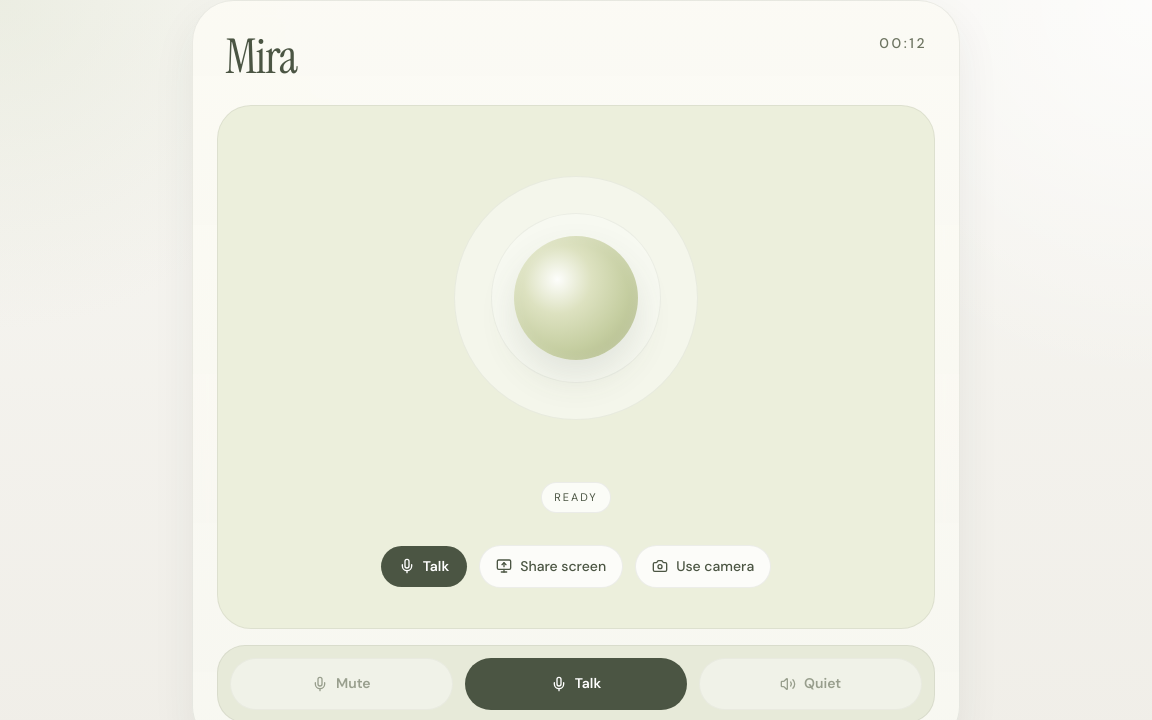
Test case: ConversationPanel › surfaces visual perception errors without crashing the live session
What coordinates should you click on to do the following:
click the button "Share screen"
I would click on:
 (551, 566)
Its box is [479,544,623,588].
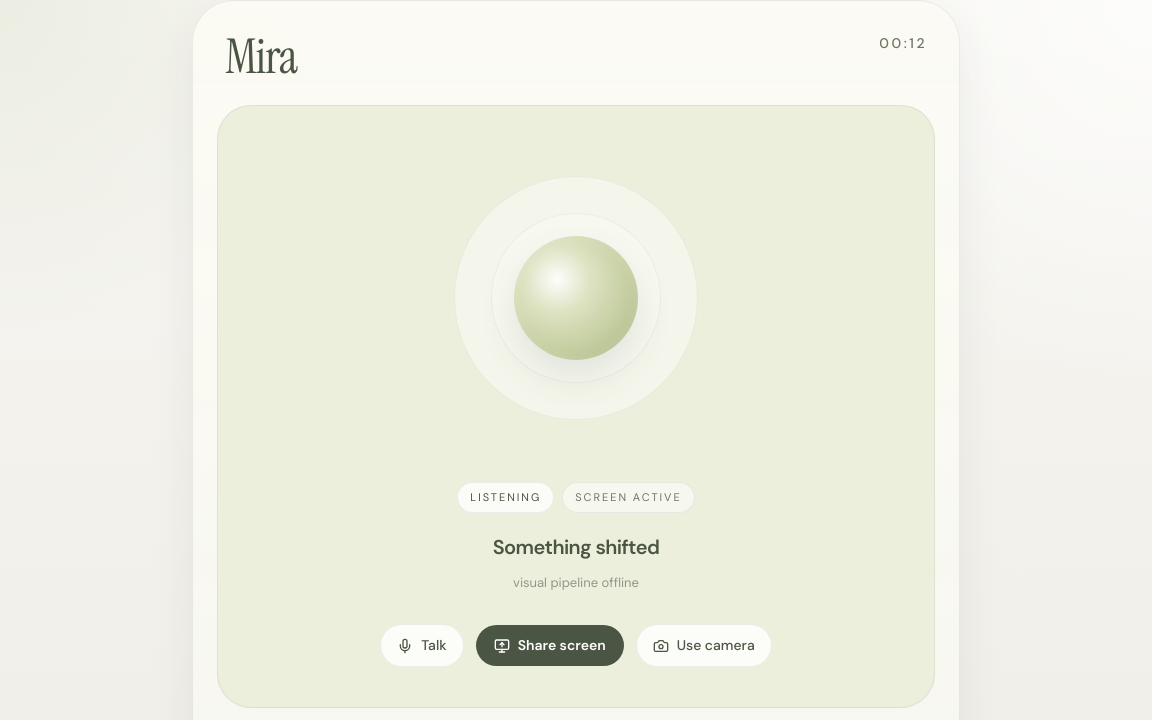
Result: the text "visual pipeline offline" is shown at [513,574,639,590]
